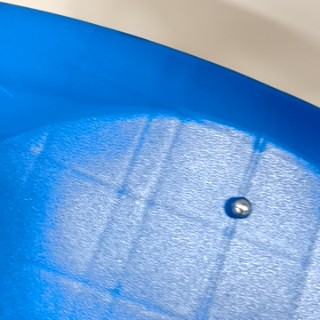ironball: (221, 190, 254, 223)
